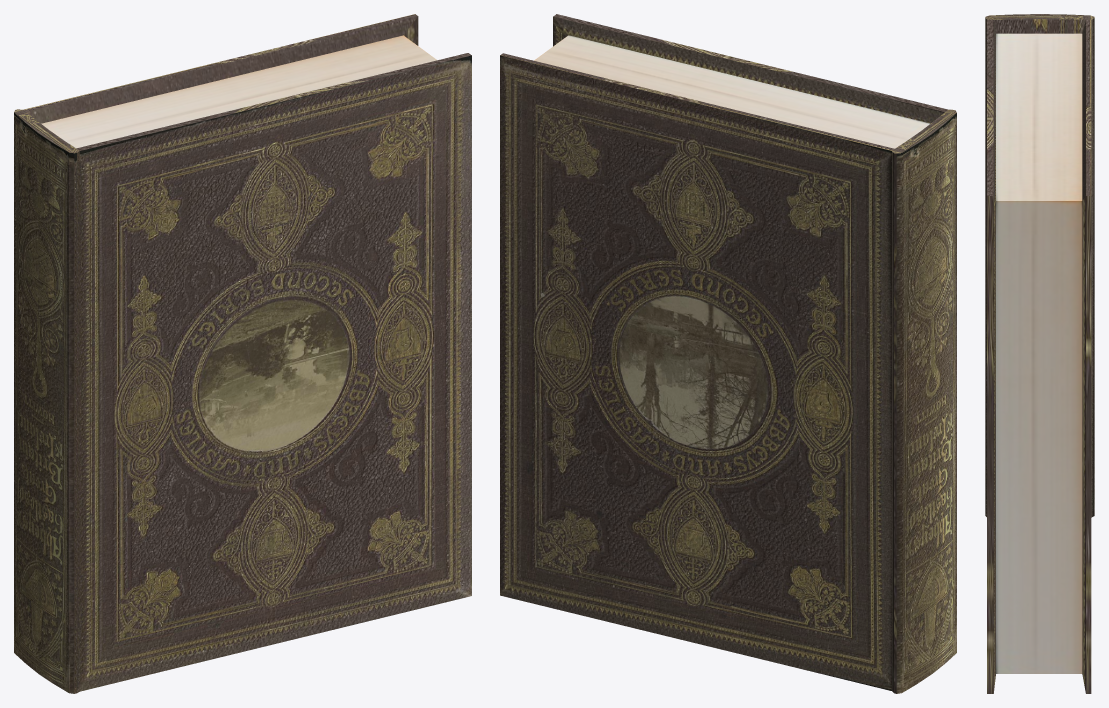
Rendered from book2.fbx.
3 renders of one model, left to right at view 1: azimuth 30°, elevation 25°; view 2: azimuth 150°, elevation 25°; view 3: azimuth 270°, elevation 25°, orthographic. The views are drawn at different scales.
Parts seen in each view (by area): view 1: Cube; view 2: Cube; view 3: Cube.
Boxes of the visible parts, x1=… form: Cube: x1=14, y1=14, x2=471, y2=693; Cube: x1=500, y1=14, x2=956, y2=693; Cube: x1=985, y1=14, x2=1094, y2=693.
Bounding box in the file's own units: 7.81 × 9.97 × 1.98.
2 materials, 2 textured.
